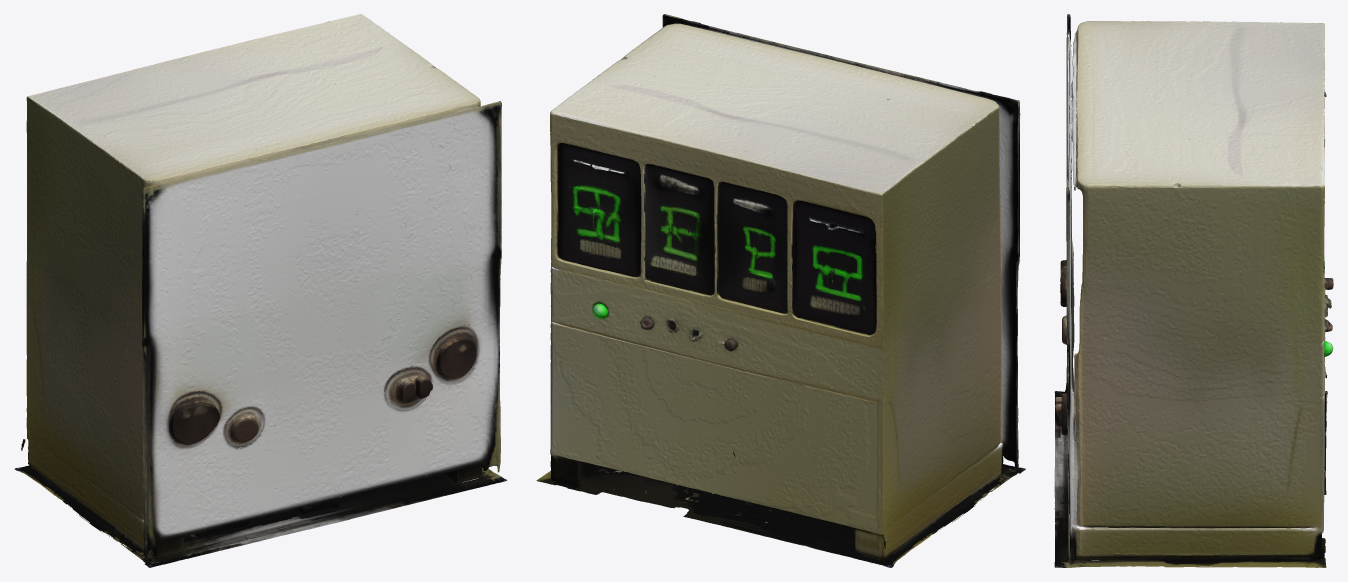
The picture shows the model from 3 angles, left to right: view 1: azimuth 30°, elevation 25°; view 2: azimuth 150°, elevation 25°; view 3: azimuth 270°, elevation 25°; orthographic projection.
Parts seen in each view (by area): view 1: world; view 2: world; view 3: world.
Boxes of the visible parts, left/top/right/bottom form: world: left=15, top=14, right=507, bottom=567; world: left=536, top=14, right=1025, bottom=567; world: left=1054, top=14, right=1333, bottom=567.
Size of the model in its own units: 1 by 1 by 0.6693.
1 material, 1 textured.
